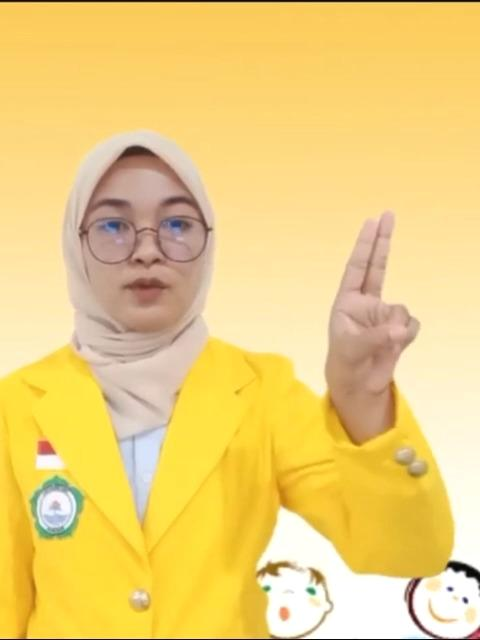U: (321, 209, 423, 393)
